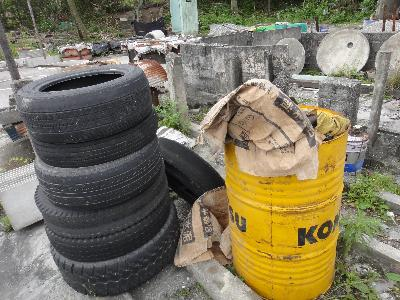bucket: (222, 100, 350, 299), (344, 135, 369, 172)
plastic_bag: (197, 76, 320, 181), (171, 185, 235, 271)
tire: (50, 202, 182, 298), (13, 62, 153, 148), (40, 183, 172, 265), (31, 134, 163, 210), (33, 169, 167, 242), (23, 106, 158, 169)
